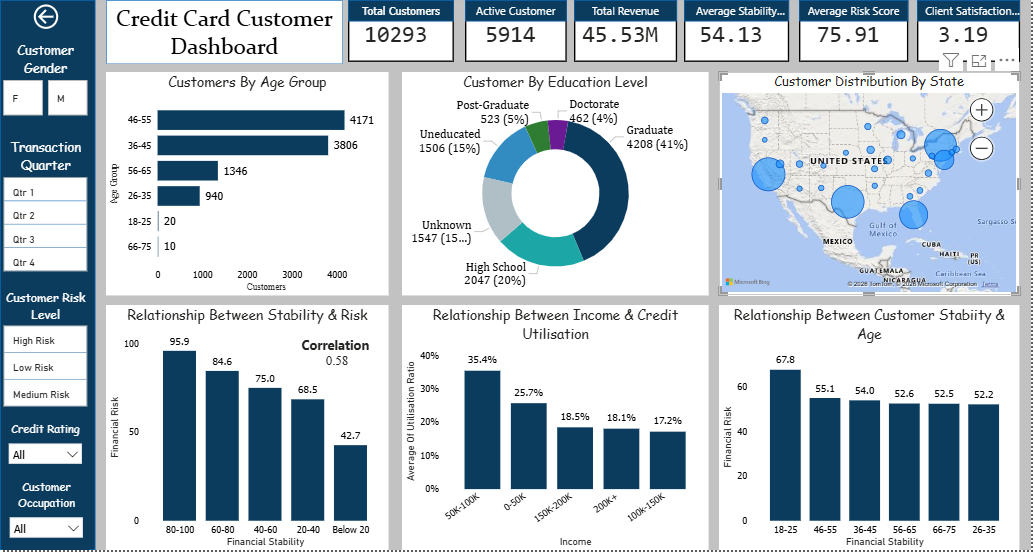

Layout of this report page (visuals, bound fields, positions):
{"tool":"powerbi","page":{"name":"Customer Dashboard","canvas":[1500,800],"ordinal":0},"visuals":[{"type":"shape","box":[0,0,138.7,800],"z":0},{"type":"shape","box":[224.2,95.2,421,24.2],"z":1000},{"type":"clusteredColumnChart","title":"Financial Stability vs Risk","fields":{"Category":["Financial_Stability.Stability_bins"],"Y":["Avg(Financial_Risk.Risk_Score)"]},"box":[138.7,459.7,450,340.3],"z":2000},{"type":"lineStackedColumnComboChart","title":"Income vs Utilization","fields":{"Category":["customer.Income_band"],"Y":["Avg(CreditCard.Avg_Utilization_Ratio)"]},"box":[139.2,120,486.4,320],"z":3000},{"type":"shape","box":[982.3,95.2,421,24.2],"z":4000},{"type":"clusteredBarChart","title":"Customers By Age Group","fields":{"Category":["customer.Age_Grp"],"Y":["CreditCard.Total_customers"]},"box":[600,440.3,438.7,359.7],"z":5000},{"type":"shapeMap","title":"Geographic Concentration Of Customers","fields":{"Category":["50 States.State"],"Value":["CreditCard.Total_customers"]},"box":[645.2,127.4,472.6,312.9],"z":6000},{"type":"donutChart","title":"Customer By Education Level","fields":{"Category":["customer.Education_Level"],"Y":["CreditCard.Total_customers"]},"box":[1024,440,476.8,360],"z":7000},{"type":"textbox","box":[1117.7,127.4,382.3,312.9],"z":8000},{"type":"advancedSlicerVisual","title":"Gender","fields":{"Values":["customer.Gender"]},"box":[0,95.2,138.7,135.5],"z":9000},{"type":"advancedSlicerVisual","title":"Gender","fields":{"Values":["Financial_Risk.Risk Category"]},"box":[0,245.2,138.7,171],"z":10000},{"type":"slicer","title":"⭐⭐⭐⭐⭐","fields":{"Values":["customer.Cust_Satisfaction_Score"]},"box":[6.5,656.5,125.8,67.7],"z":11000},{"type":"slicer","title":"Occupation","fields":{"Values":["customer.Customer_Job"]},"box":[6.5,741.9,125.8,58.1],"z":12000},{"type":"card","title":"Top State","fields":{"Values":["Min(customer.State)"]},"box":[922.6,390.3,87.1,50],"z":13000},{"type":"cardVisual","title":"Total Customers","fields":{"Data":["CreditCard.Total_customers"]},"box":[138.7,0,230.6,85.5],"z":14000},{"type":"cardVisual","title":"Total Customers","fields":{"Data":["CreditCard.Active_customers"]},"box":[395.2,0,230.6,85.5],"z":15000},{"type":"cardVisual","title":"Total Customers","fields":{"Data":["Avg(customer.Income)"]},"box":[651.6,0,230.6,85.5],"z":16000},{"type":"cardVisual","title":"Total Customers","fields":{"Data":["Avg(Financial_Stability.Financial_Stability_Score)"]},"box":[908.1,0,230.6,85.5],"z":17000},{"type":"cardVisual","title":"Total Customers","fields":{"Data":["Avg(Financial_Risk.Risk_Score)"]},"box":[1172.6,0,230.6,85.5],"z":18000},{"type":"image","box":[529,0,96.8,85.5],"z":19000},{"type":"image","box":[258.1,0,124.2,85.5],"z":20000},{"type":"image","box":[782.3,0,100,85.5],"z":21000},{"type":"image","box":[1308.8,6.4,92.8,72],"z":22000},{"type":"image","box":[1045.2,0,93.5,85.5],"z":23000},{"type":"shape","box":[138.7,0,143.5,30],"z":24000},{"type":"shape","box":[395.2,0,137.1,30],"z":25000},{"type":"shape","box":[651.6,0,137.1,30],"z":26000},{"type":"shape","box":[908.1,0,137.1,30],"z":27000},{"type":"shape","box":[1172.6,0,137.1,30],"z":28000},{"type":"slicer","title":"Use Chip","fields":{"Values":["CreditCard.Week_Start_Date.Variation.Date Hierarchy.Quarter"]},"box":[6.5,572.6,125.8,58.1],"z":29000},{"type":"image","box":[0,416.1,138.7,154.8],"z":30000},{"type":"image","box":[69.4,119.4,51.6,54.8],"z":31000},{"type":"image","box":[75.2,174.4,33.6,56],"z":32000}]}

Visuals, with their boxes in screenshot pixels (x1, y1, x2, y2), scaled from the page's 1500x800 canvas onto the 1034x552 screenshot:
shape: {"left": 0, "top": 0, "right": 96, "bottom": 551}
shape: {"left": 155, "top": 66, "right": 445, "bottom": 82}
"Financial Stability vs Risk" clusteredColumnChart: {"left": 96, "top": 317, "right": 406, "bottom": 551}
"Income vs Utilization" lineStackedColumnComboChart: {"left": 96, "top": 83, "right": 431, "bottom": 304}
shape: {"left": 677, "top": 66, "right": 967, "bottom": 82}
"Customers By Age Group" clusteredBarChart: {"left": 414, "top": 304, "right": 716, "bottom": 551}
"Geographic Concentration Of Customers" shapeMap: {"left": 445, "top": 88, "right": 771, "bottom": 304}
"Customer By Education Level" donutChart: {"left": 706, "top": 304, "right": 1033, "bottom": 551}
textbox: {"left": 770, "top": 88, "right": 1033, "bottom": 304}
"Gender" advancedSlicerVisual: {"left": 0, "top": 66, "right": 96, "bottom": 159}
"Gender" advancedSlicerVisual: {"left": 0, "top": 169, "right": 96, "bottom": 287}
"⭐⭐⭐⭐⭐" slicer: {"left": 4, "top": 453, "right": 91, "bottom": 500}
"Occupation" slicer: {"left": 4, "top": 512, "right": 91, "bottom": 551}
"Top State" card: {"left": 636, "top": 269, "right": 696, "bottom": 304}
"Total Customers" cardVisual: {"left": 96, "top": 0, "right": 255, "bottom": 59}
"Total Customers" cardVisual: {"left": 272, "top": 0, "right": 431, "bottom": 59}
"Total Customers" cardVisual: {"left": 449, "top": 0, "right": 608, "bottom": 59}
"Total Customers" cardVisual: {"left": 626, "top": 0, "right": 785, "bottom": 59}
"Total Customers" cardVisual: {"left": 808, "top": 0, "right": 967, "bottom": 59}
image: {"left": 365, "top": 0, "right": 431, "bottom": 59}
image: {"left": 178, "top": 0, "right": 264, "bottom": 59}
image: {"left": 539, "top": 0, "right": 608, "bottom": 59}
image: {"left": 902, "top": 4, "right": 966, "bottom": 54}
image: {"left": 720, "top": 0, "right": 785, "bottom": 59}
shape: {"left": 96, "top": 0, "right": 195, "bottom": 21}
shape: {"left": 272, "top": 0, "right": 367, "bottom": 21}
shape: {"left": 449, "top": 0, "right": 544, "bottom": 21}
shape: {"left": 626, "top": 0, "right": 720, "bottom": 21}
shape: {"left": 808, "top": 0, "right": 903, "bottom": 21}
"Use Chip" slicer: {"left": 4, "top": 395, "right": 91, "bottom": 435}
image: {"left": 0, "top": 287, "right": 96, "bottom": 394}
image: {"left": 48, "top": 82, "right": 83, "bottom": 120}
image: {"left": 52, "top": 120, "right": 75, "bottom": 159}
